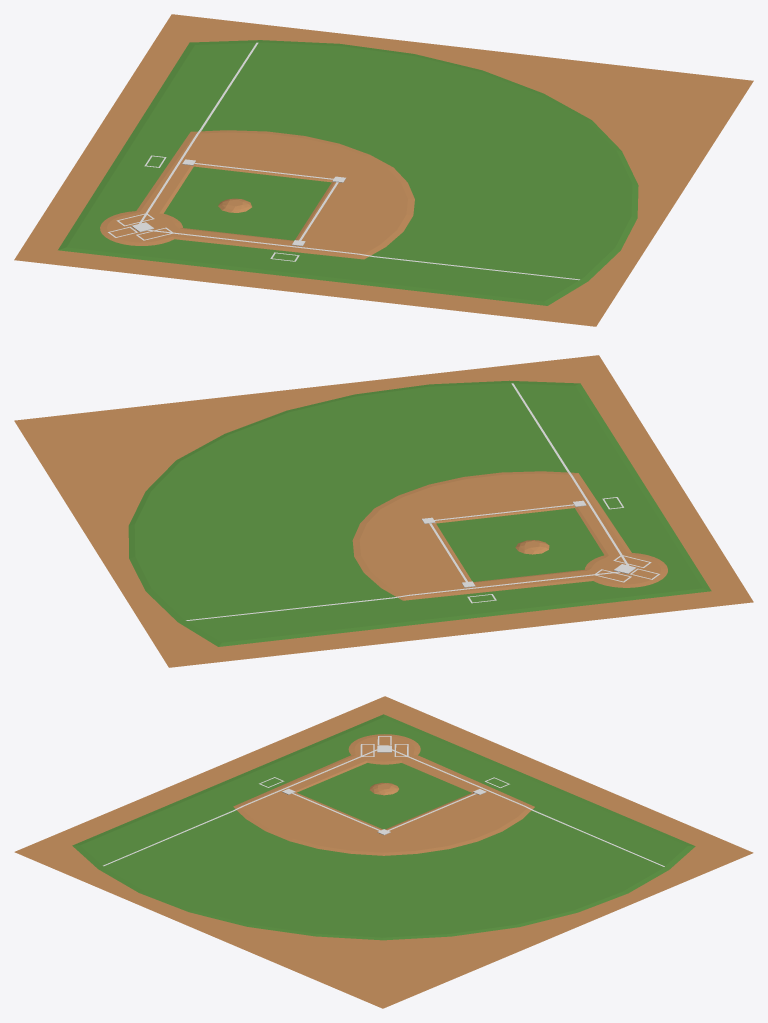
The model's file is field.glb.
3 renders of one model, top to bottom at view 1: azimuth 30°, elevation 25°; view 2: azimuth 150°, elevation 25°; view 3: azimuth 270°, elevation 25°, orthographic. The views are drawn at different scales.
Visible parts, largest first — view 1: Field, White Lines; view 2: Field, White Lines; view 3: Field, White Lines.
Boxes of the visible parts, <box> form: Field: <box>14,14,753,326</box>; White Lines: <box>108,42,579,280</box>; Field: <box>14,355,753,667</box>; White Lines: <box>186,383,659,620</box>; Field: <box>14,696,753,1008</box>; White Lines: <box>103,736,664,866</box>.
Bounding box in the file's own units: 2960 × 15.95 × 2960.
